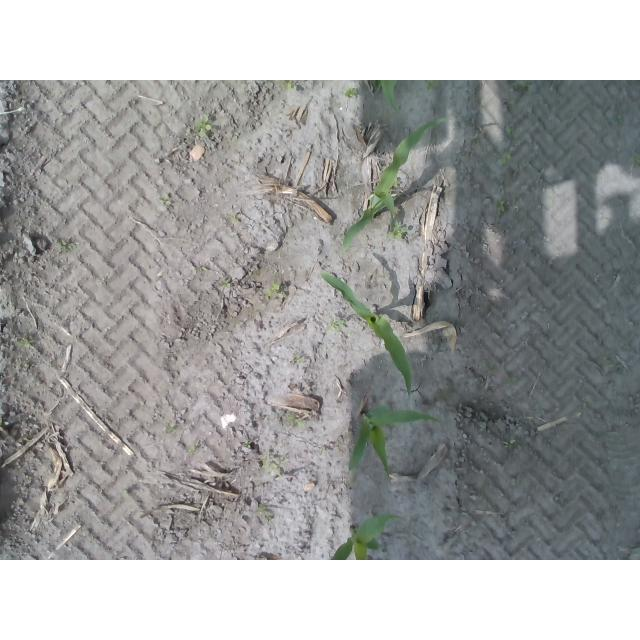Maize: (341, 117, 447, 256), (318, 268, 413, 396), (347, 409, 441, 481), (328, 509, 405, 560), (378, 80, 405, 110)
Weeds: (386, 218, 410, 240), (491, 200, 509, 225), (195, 115, 213, 137), (266, 282, 287, 299), (262, 452, 279, 473), (285, 414, 307, 430), (58, 240, 79, 253), (257, 504, 276, 517), (426, 80, 443, 93), (498, 150, 511, 166), (157, 194, 172, 207), (330, 318, 346, 330), (162, 423, 179, 434), (280, 81, 297, 92), (343, 86, 357, 98), (504, 438, 516, 448), (244, 440, 252, 450), (393, 178, 399, 189)
